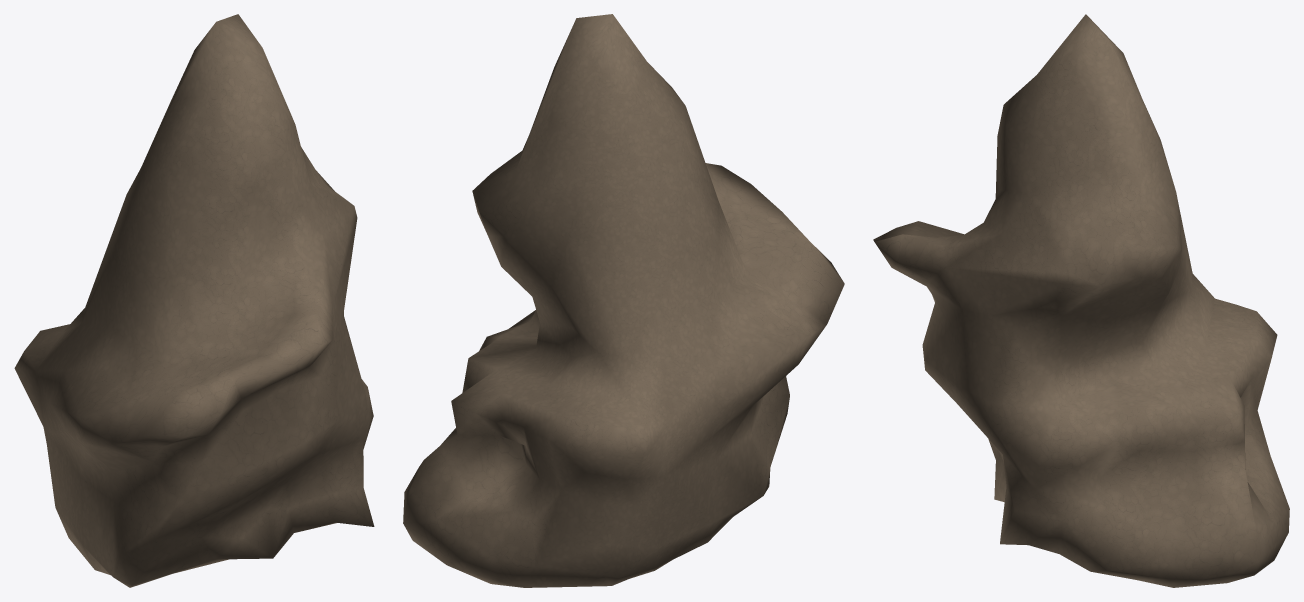
Rendered from rock_g.fbx.
3 views of the same model, side by side, from view 1: azimuth 30°, elevation 25°; view 2: azimuth 150°, elevation 25°; view 3: azimuth 270°, elevation 25° (orthographic). The views are drawn at different scales.
Visible parts, largest first — view 1: Cube; view 2: Cube; view 3: Cube.
Boxes of the visible parts, left/top/right/bottom form: Cube: left=14, top=14, right=374, bottom=587; Cube: left=403, top=14, right=844, bottom=587; Cube: left=873, top=14, right=1289, bottom=587.
Size of the model in its own units: 18.04 by 29.31 by 20.83.
